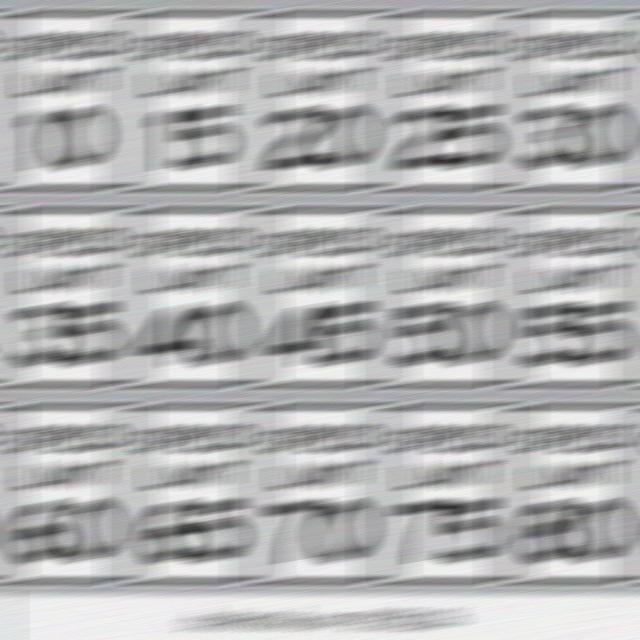speedLimit15: (138, 29, 248, 178)
speedLimit20: (263, 24, 375, 177)
speedLimit25: (393, 22, 504, 175)
speedLimit30: (520, 26, 628, 175)
speedLimit35: (9, 225, 120, 369)
speedLimit40: (138, 220, 248, 374)
speedLimit45: (265, 218, 377, 369)
speedLimit50: (395, 221, 504, 376)
speedLimit60: (9, 417, 120, 570)
speedLimit65: (136, 415, 248, 570)
speedLimit70: (266, 417, 376, 573)
